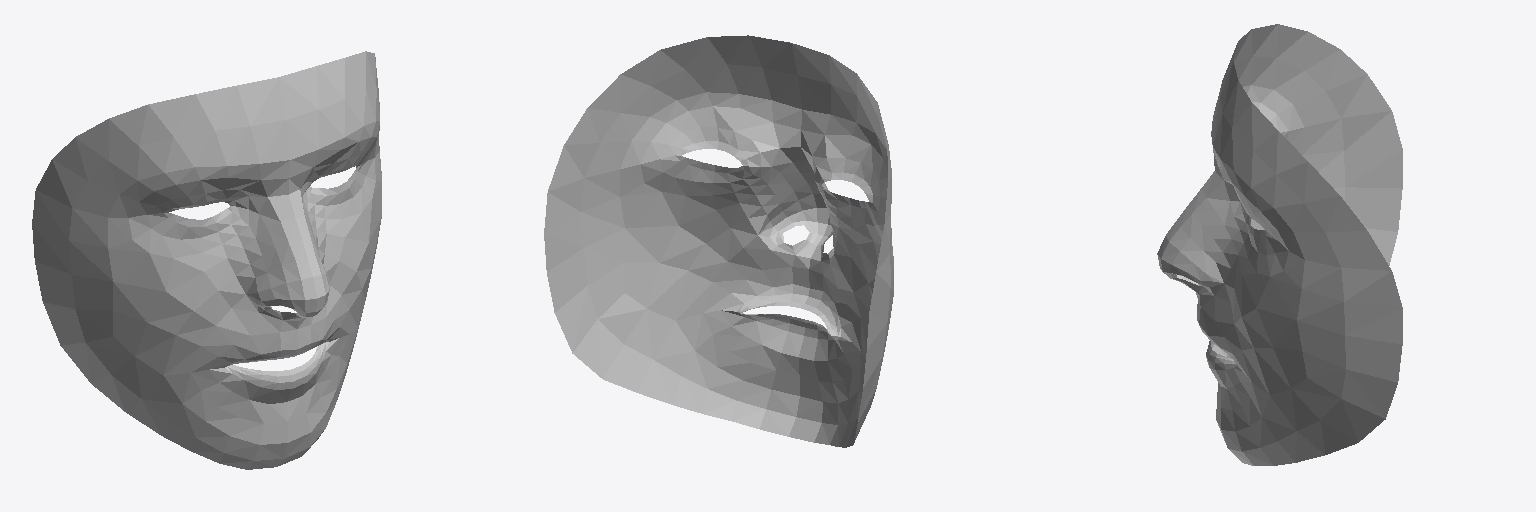
The model's file is FaceMesh-holes-468.obj.
The picture shows the model from 3 angles: view 1: azimuth 30°, elevation 25°; view 2: azimuth 150°, elevation 25°; view 3: azimuth 270°, elevation 25°; orthographic projection.
Size of the model in its own units: 15.49 by 17.67 by 10.02.